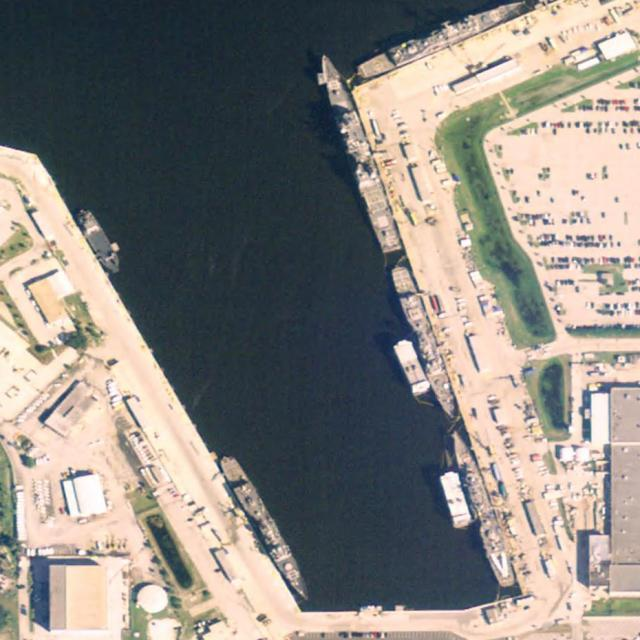Cruiser: (312, 48, 405, 256)
Frigate: (220, 452, 313, 606), (356, 1, 516, 81), (448, 427, 515, 589), (392, 265, 459, 422)
Other Ship: (74, 202, 129, 278)
